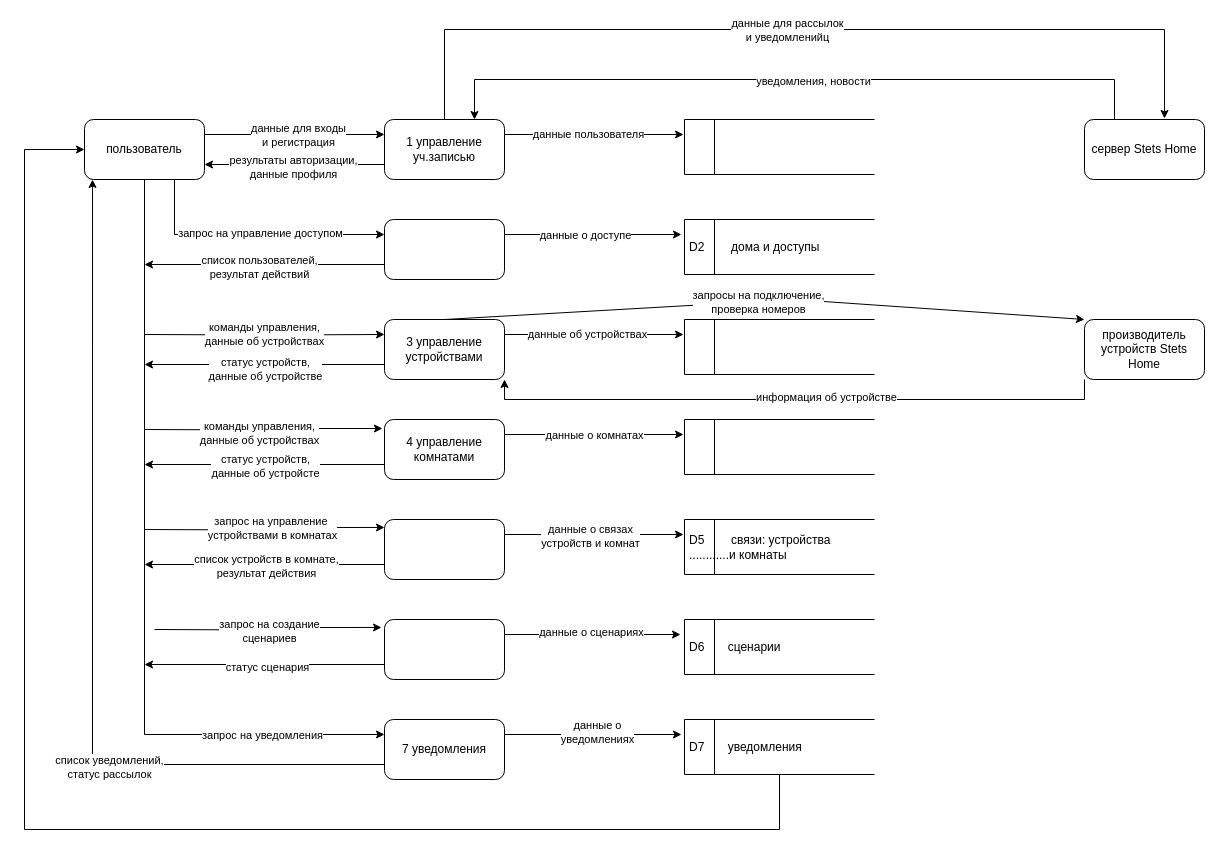
Image size: 1222x855. Some labels were removed from this diagram. Here are the shapes that lost their labels. From the top down, the centre of each, then its label:
At point (779, 146): "D1 пользователи".
At point (444, 249): "2 управление доступом к дому".
At point (779, 346): "D3 устройства".
At point (779, 446): "D4 комнаты".
At point (444, 549): "5 управление устройствами в комнатах".
At point (444, 649): "6 сценарии автоматизации".
